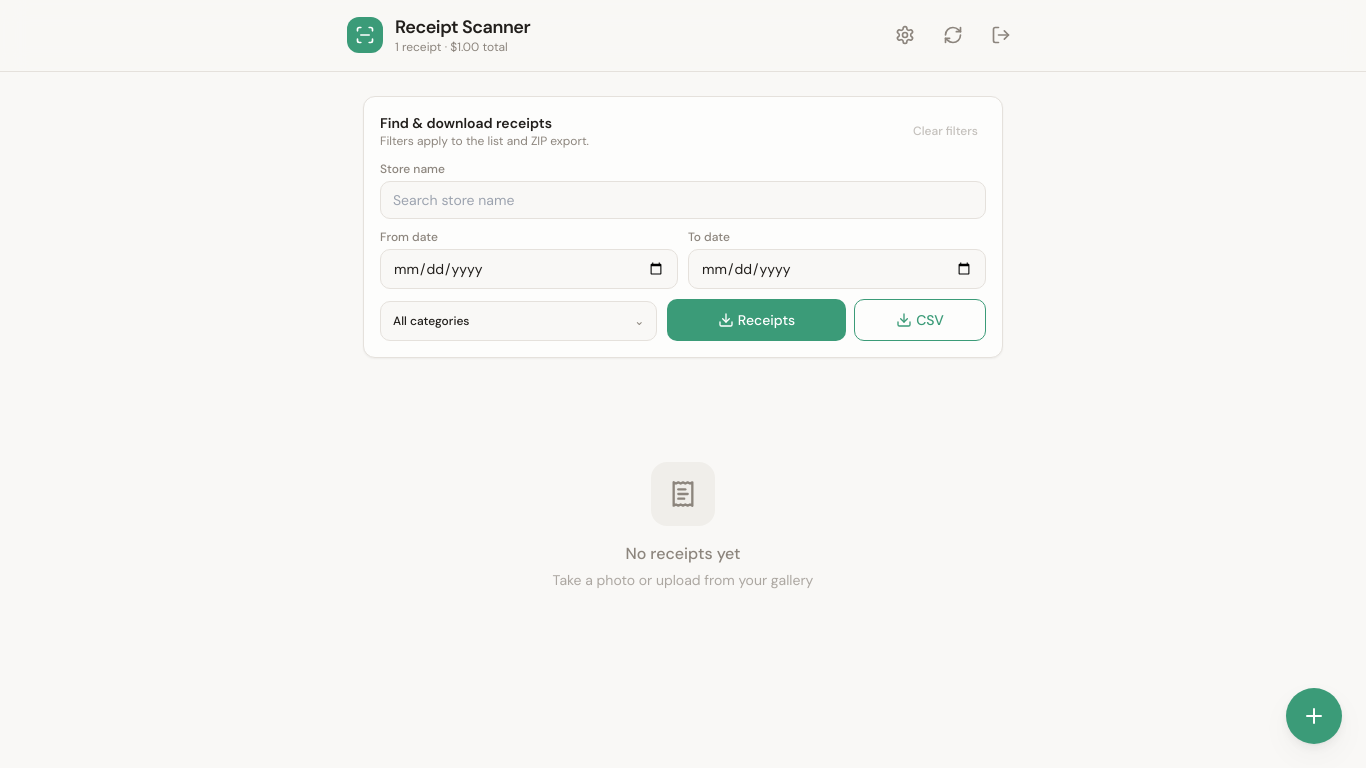
Test: Index receipt filters and export › uses the complete receipt metadata fetch rather than the visible page
Click the button with aria-label "Download receipts ZIP" at (757, 320), box [667,298,846,340]
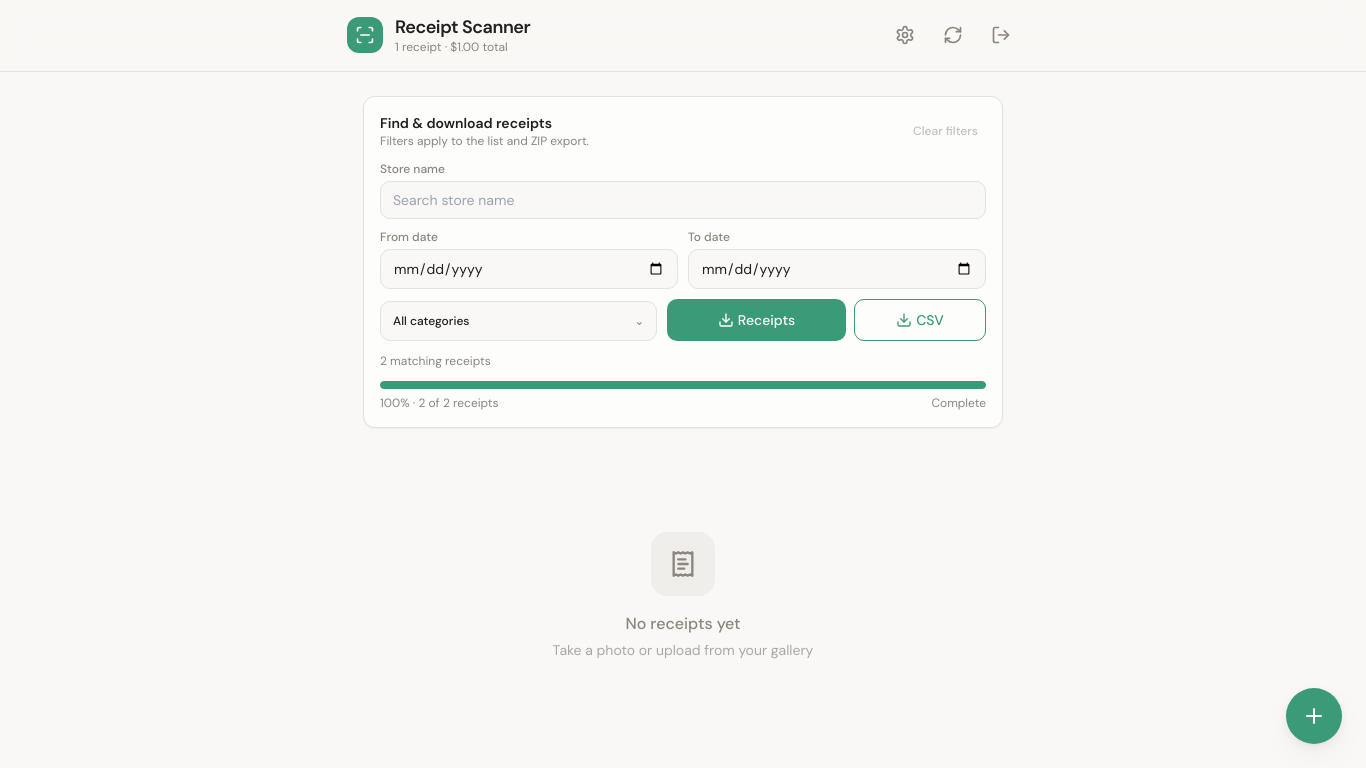
Check: the text "2 matching receipts" is shown, box [380,352,491,368]
